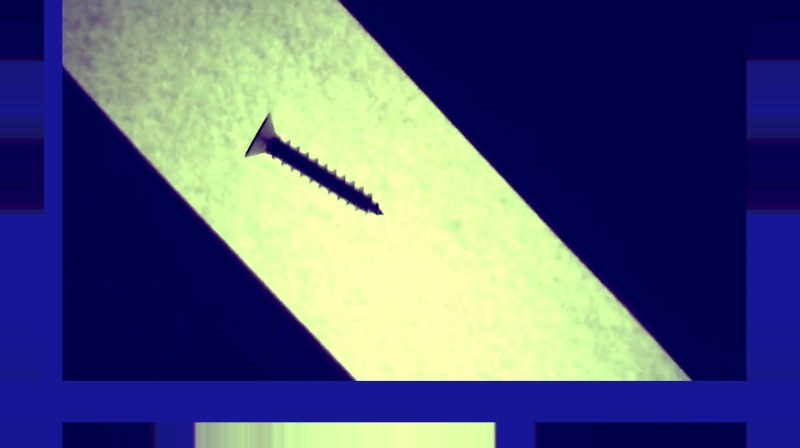S001: (238, 109, 387, 221)
